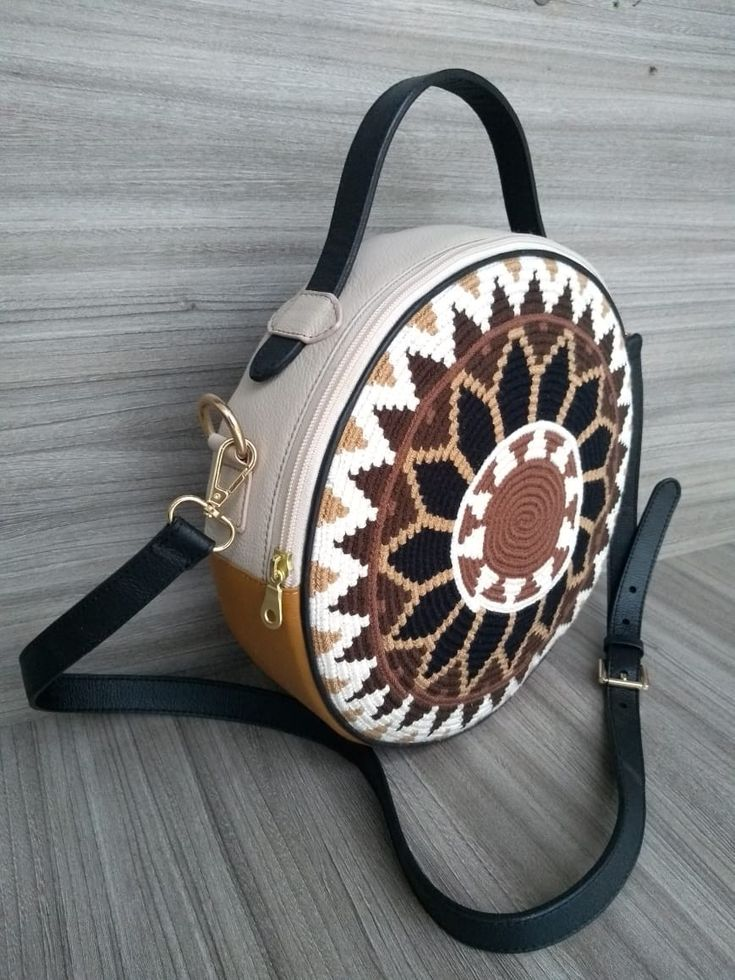cuero: (26, 66, 682, 955)
